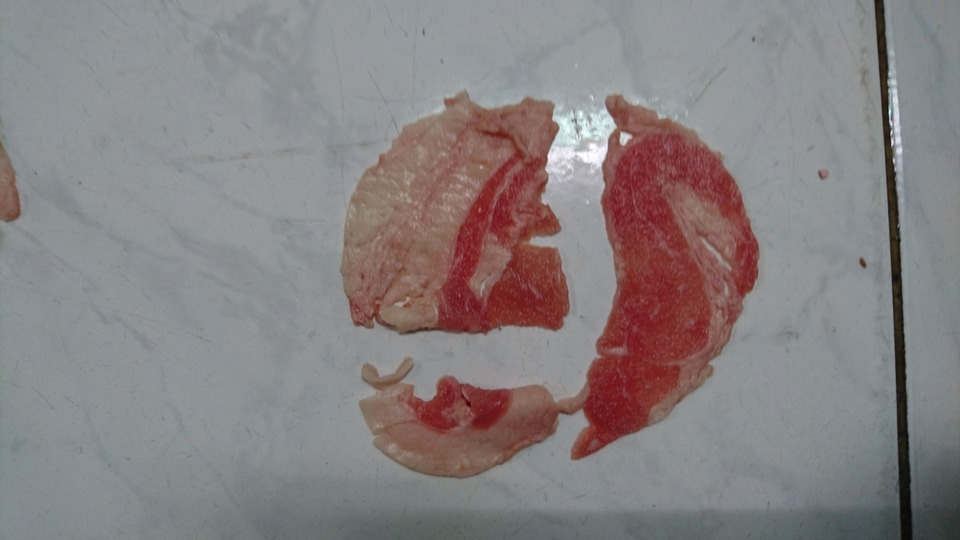restructured meat: (340, 91, 762, 480)
